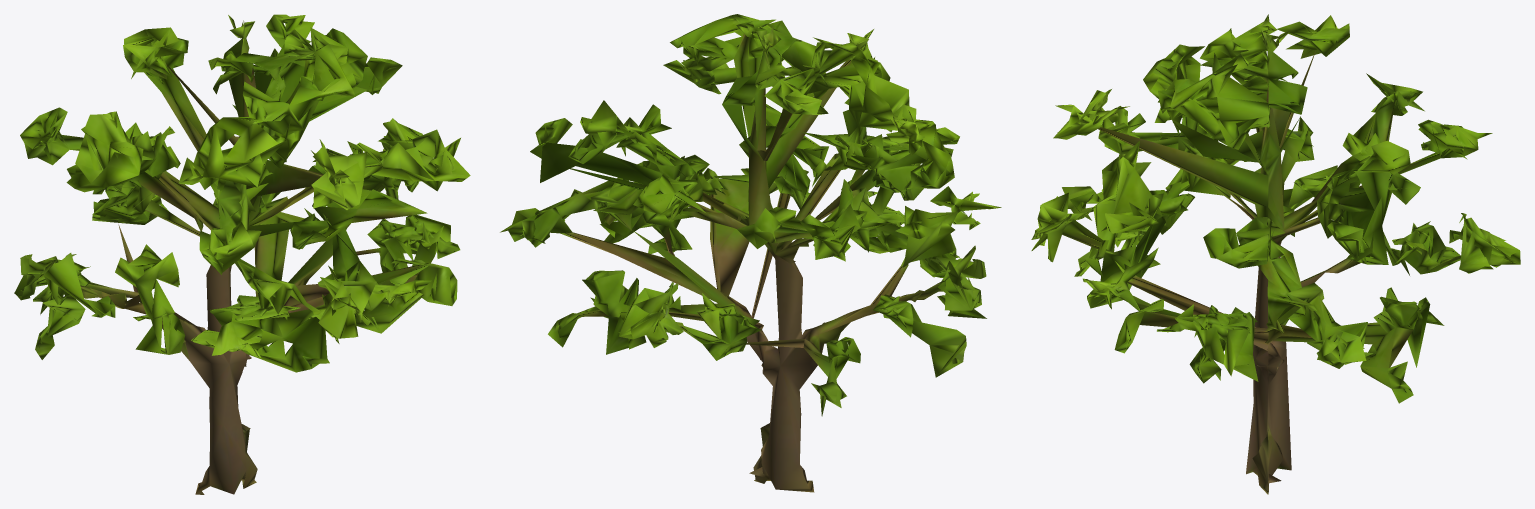
The model's file is tree_linden.glb.
3 views of the same model, side by side, from view 1: azimuth 30°, elevation 25°; view 2: azimuth 150°, elevation 25°; view 3: azimuth 270°, elevation 25° (orthographic). The views are drawn at different scales.
Parts seen in each view (by area): view 1: tripo_node_551da0a6-cb6d-40ca-be68-11cc507f5141; view 2: tripo_node_551da0a6-cb6d-40ca-be68-11cc507f5141; view 3: tripo_node_551da0a6-cb6d-40ca-be68-11cc507f5141.
Boxes of the visible parts, x1=… form: tripo_node_551da0a6-cb6d-40ca-be68-11cc507f5141: x1=14, y1=14, x2=470, y2=494; tripo_node_551da0a6-cb6d-40ca-be68-11cc507f5141: x1=500, y1=14, x2=1001, y2=492; tripo_node_551da0a6-cb6d-40ca-be68-11cc507f5141: x1=1031, y1=14, x2=1520, y2=494.
Bounding box in the file's own units: 9 × 9 × 8.62.
1 material, 1 textured.
